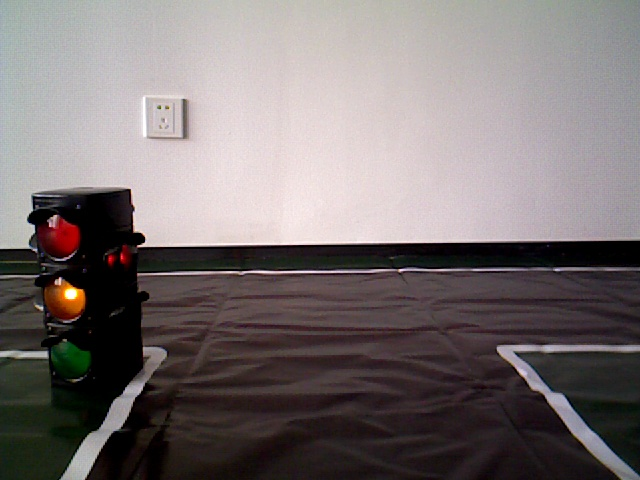yellow: (30, 189, 144, 395)
